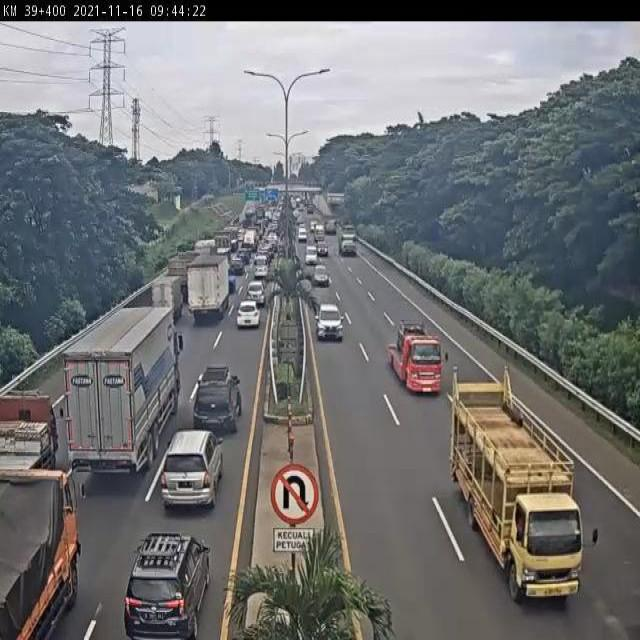car: (127, 530, 205, 634), (158, 434, 220, 514), (195, 368, 242, 432), (317, 300, 345, 343), (237, 303, 260, 328), (247, 283, 266, 305), (313, 264, 329, 289), (254, 255, 269, 277), (305, 248, 318, 265), (231, 257, 243, 271), (318, 239, 327, 256), (298, 226, 307, 238)
small truck: (385, 311, 443, 405), (0, 396, 49, 471), (152, 278, 179, 318), (243, 229, 258, 251), (323, 214, 338, 234), (313, 223, 326, 241)
truck-l-: (64, 304, 179, 476), (339, 227, 357, 256)
truck-m-: (445, 367, 581, 609), (0, 468, 72, 640), (188, 256, 232, 328)
